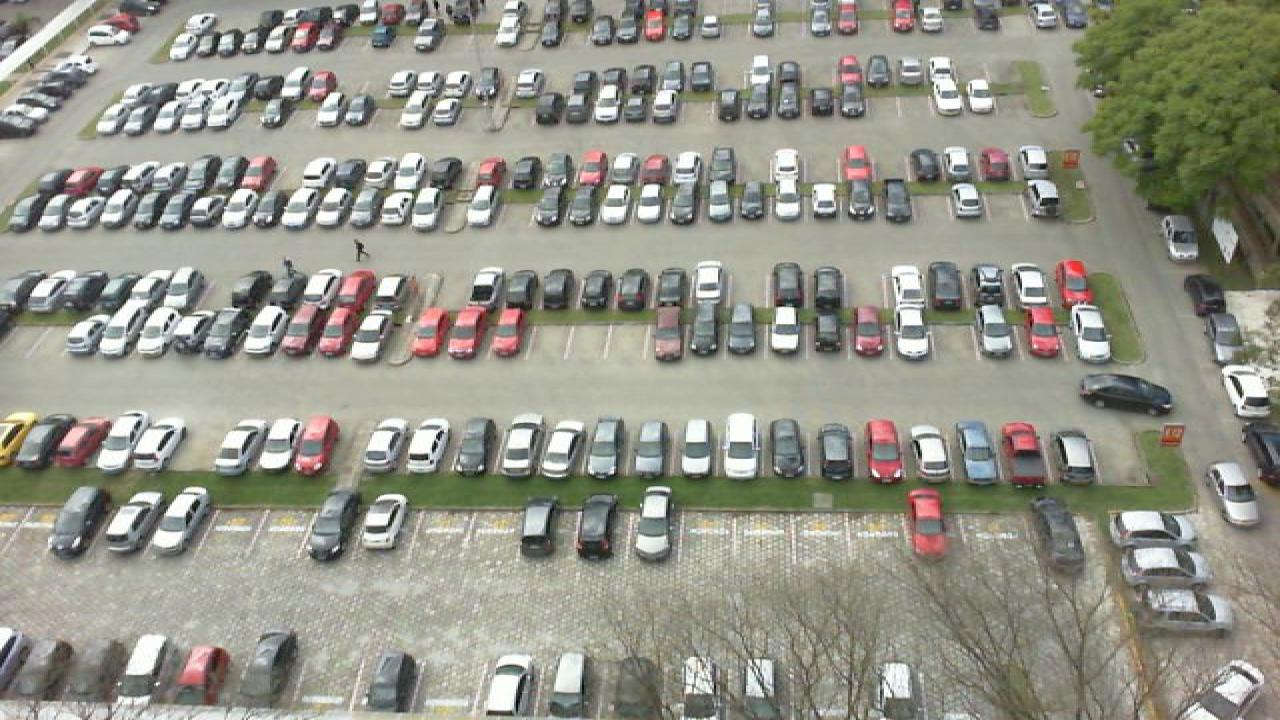Car: (1128, 584, 1230, 629), (1118, 543, 1218, 585), (1078, 372, 1176, 413), (48, 485, 102, 559), (1032, 496, 1086, 569), (1208, 461, 1264, 528), (1110, 507, 1206, 546), (304, 493, 360, 559), (106, 490, 160, 554), (154, 488, 208, 552), (632, 486, 678, 561), (52, 414, 114, 468), (14, 413, 74, 468), (94, 411, 148, 472), (904, 486, 948, 558), (494, 414, 544, 477), (572, 492, 618, 560), (1000, 422, 1048, 486), (536, 416, 586, 477), (292, 413, 340, 476), (954, 420, 1000, 484), (1052, 428, 1102, 486), (358, 493, 408, 550), (722, 412, 764, 479), (212, 418, 264, 472), (864, 419, 908, 482), (132, 419, 184, 472), (582, 416, 626, 478), (908, 425, 954, 484), (452, 416, 498, 475), (94, 302, 144, 356), (518, 496, 562, 557), (362, 417, 410, 472), (254, 417, 302, 472), (404, 418, 450, 474), (634, 417, 674, 480), (308, 307, 356, 359), (200, 308, 248, 360), (128, 308, 180, 356), (768, 418, 808, 480), (444, 308, 490, 361), (974, 305, 1018, 359), (680, 418, 718, 480), (1018, 305, 1062, 358), (484, 307, 528, 360), (408, 308, 452, 361), (274, 308, 320, 358), (348, 307, 390, 361), (240, 307, 286, 356), (0, 269, 50, 314), (814, 421, 852, 479), (40, 269, 88, 314), (0, 411, 38, 467), (894, 306, 934, 359), (1064, 306, 1104, 358), (724, 302, 762, 356), (166, 310, 210, 356), (686, 303, 722, 359), (650, 305, 686, 361), (230, 268, 278, 310), (850, 305, 890, 355), (60, 317, 110, 357), (808, 306, 846, 357), (1008, 262, 1050, 308), (766, 261, 806, 308), (766, 304, 802, 356), (1058, 259, 1098, 305), (966, 262, 1006, 308), (160, 267, 206, 306), (124, 269, 170, 308), (462, 264, 502, 308), (368, 269, 412, 309), (926, 262, 964, 308), (84, 270, 130, 308), (808, 262, 846, 307), (334, 269, 376, 309), (300, 269, 342, 309), (888, 263, 926, 307), (690, 260, 726, 306), (576, 268, 614, 310), (538, 268, 576, 309), (500, 267, 538, 308), (614, 268, 650, 310), (652, 268, 688, 308)
